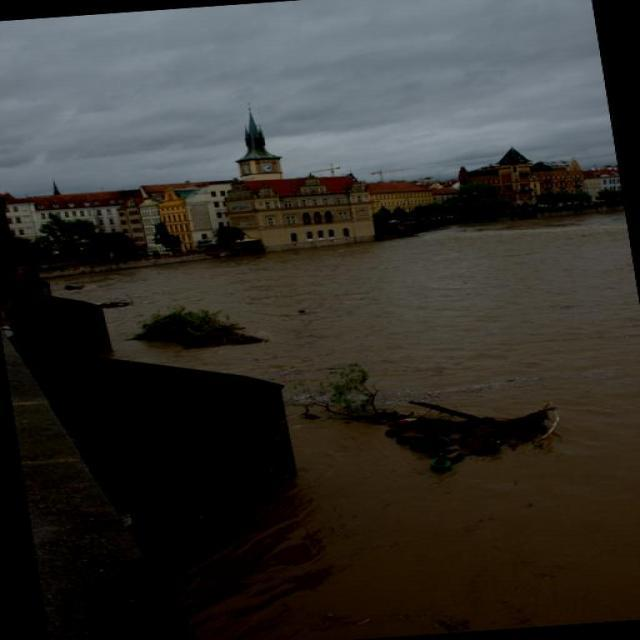flood: (53, 219, 639, 639)
